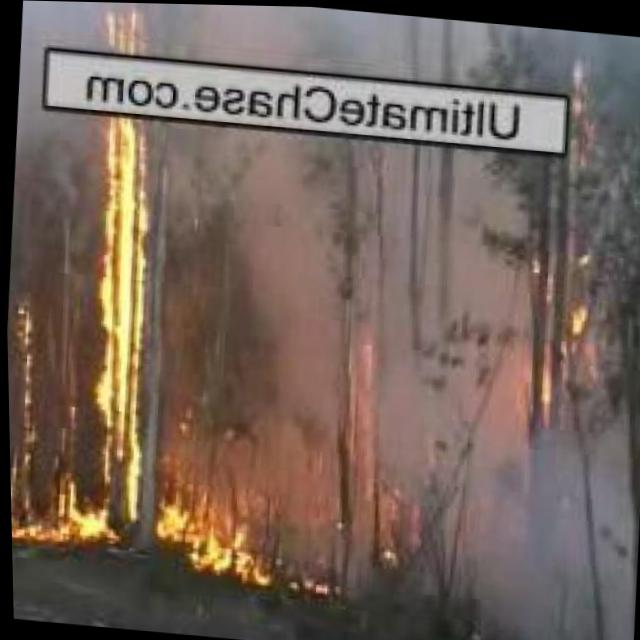Fire: (58, 18, 171, 540), (151, 486, 272, 573), (8, 462, 27, 542)
